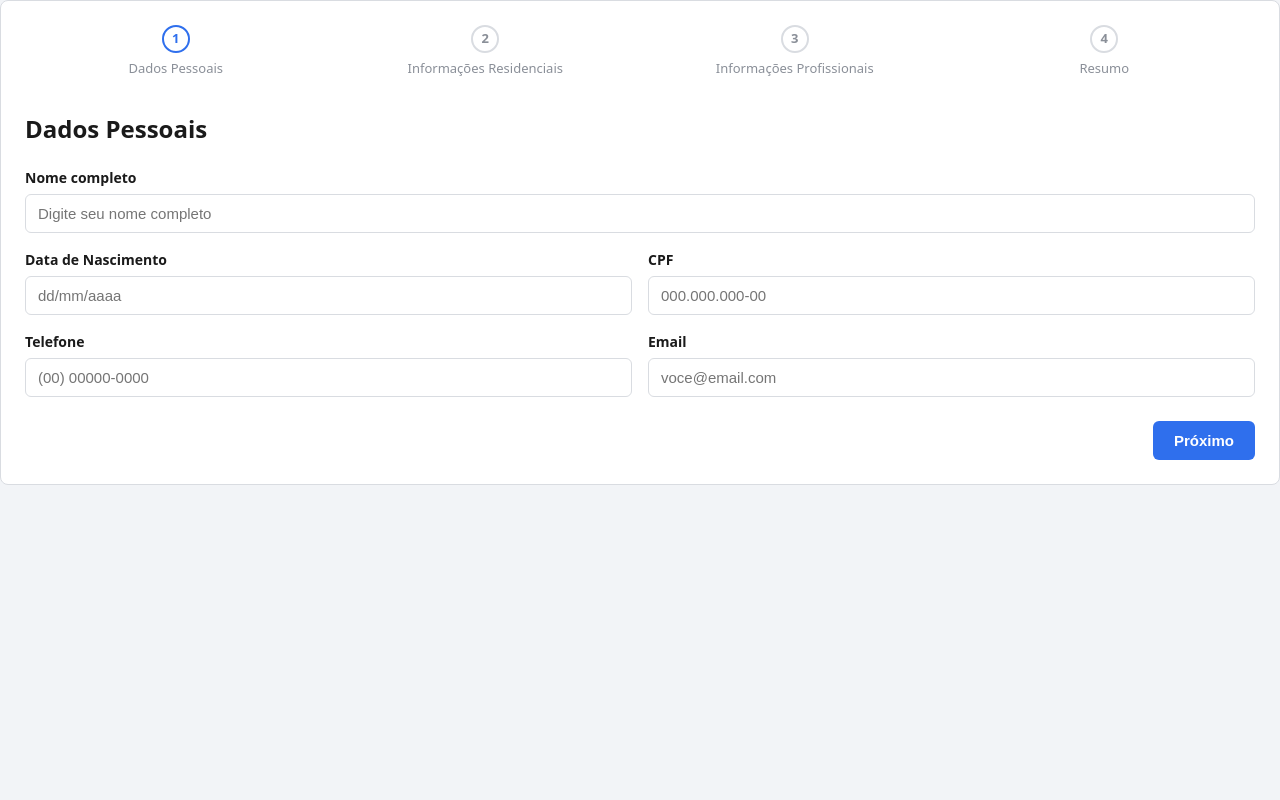
Scenario: FormWizard › exibe erros de validação ao tentar avançar sem preencher os campos
Click the button "Próximo" at [1204, 440], box [1153, 420, 1255, 460]
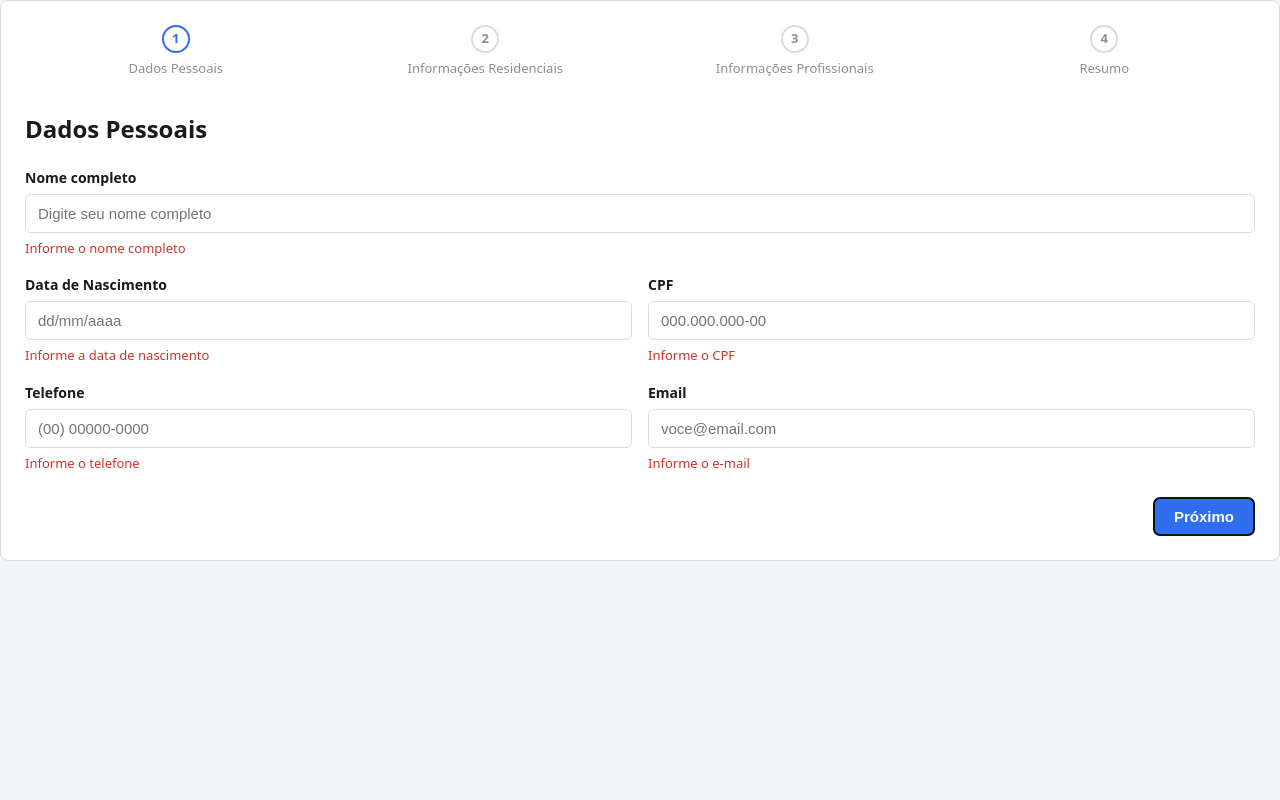
expect the text "Informe o nome completo" is shown: met, box [25, 238, 186, 256]
